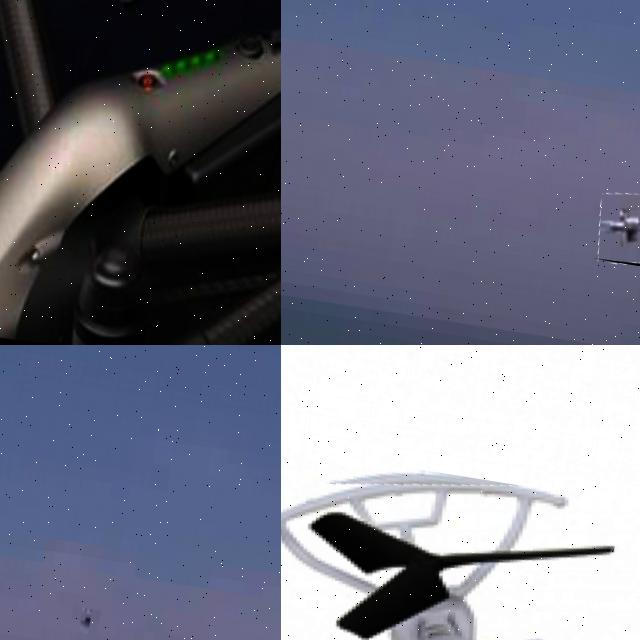drone: (0, 0, 281, 345), (281, 435, 640, 640), (592, 188, 640, 270)
